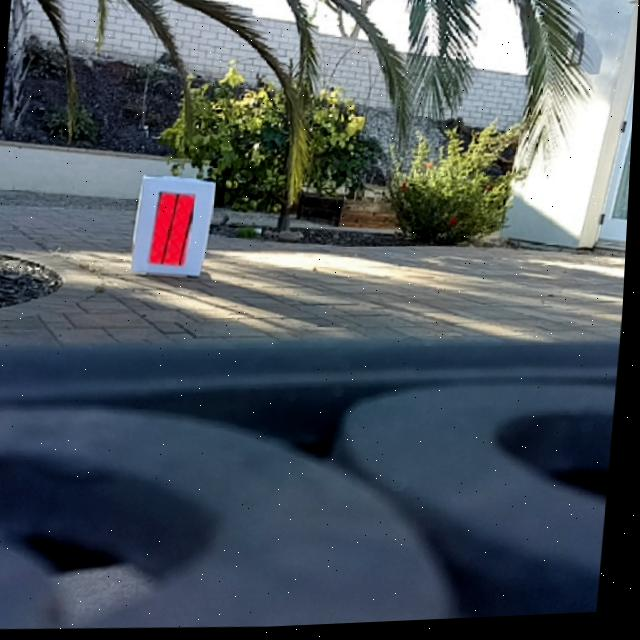led: (150, 190, 197, 269)
